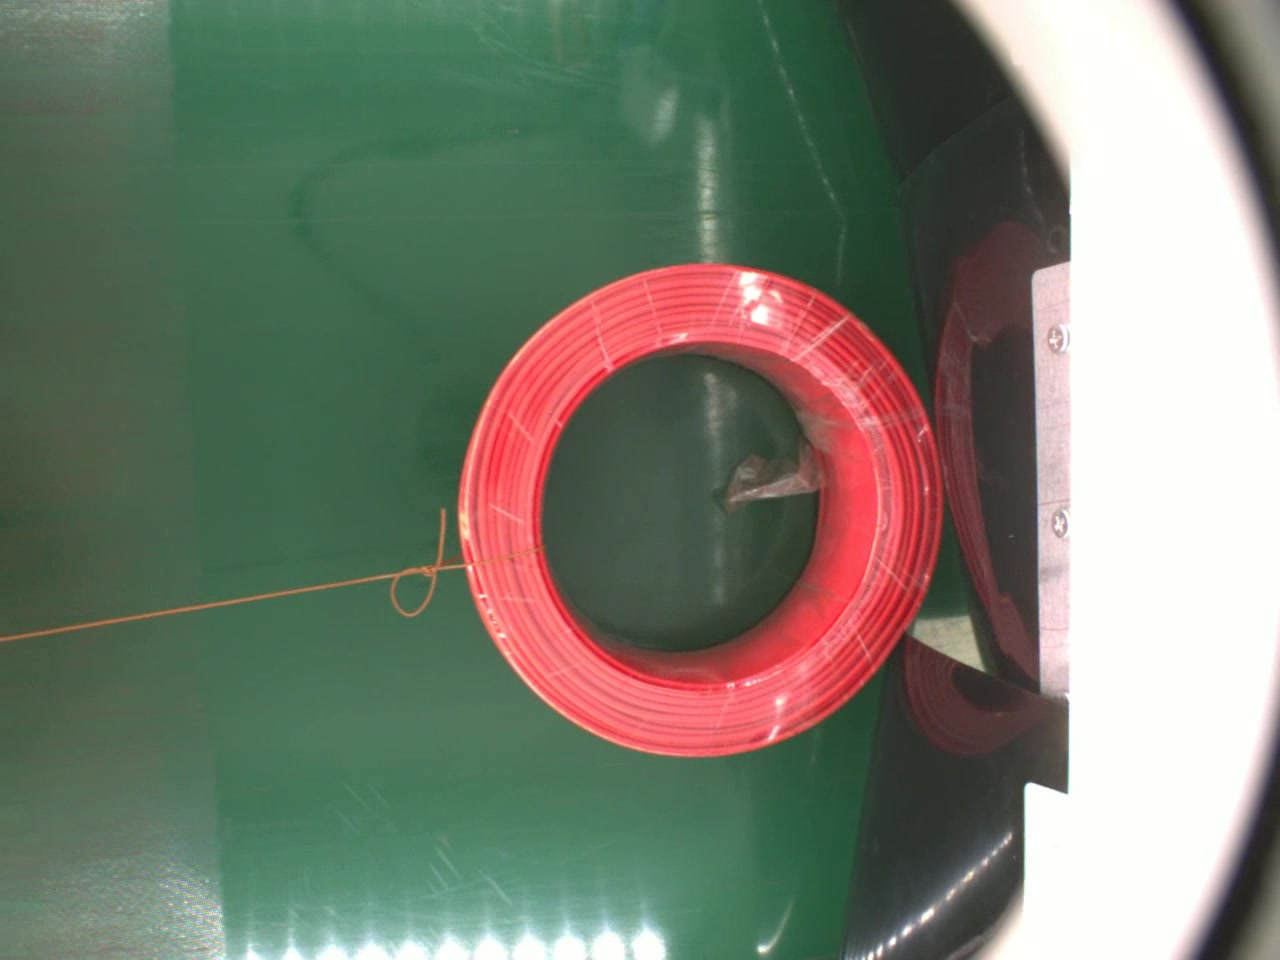red: (459, 261, 943, 760)
